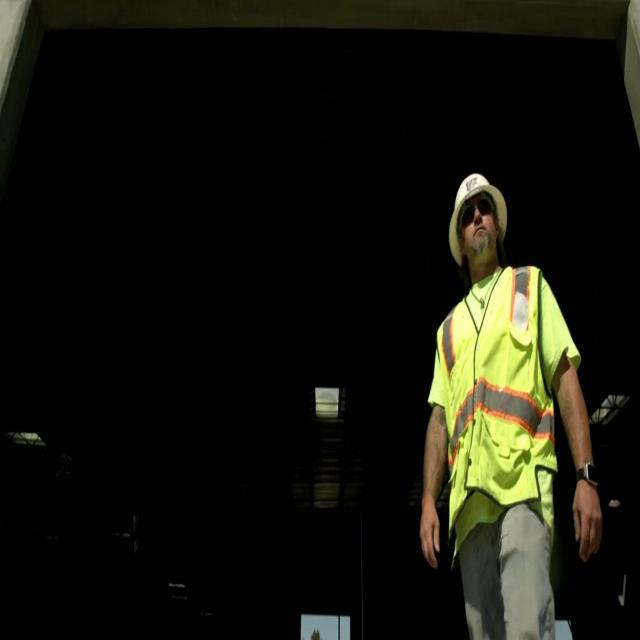con_chaleco: (436, 259, 556, 539)
